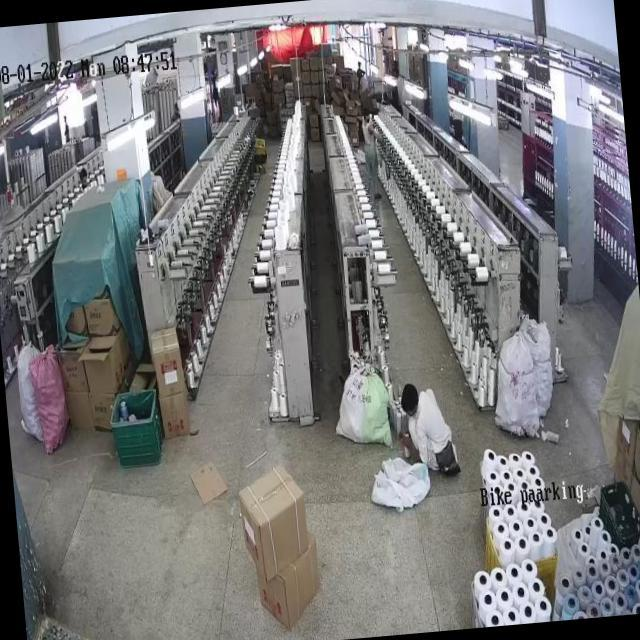person: (399, 374, 456, 478), (359, 118, 382, 198)
